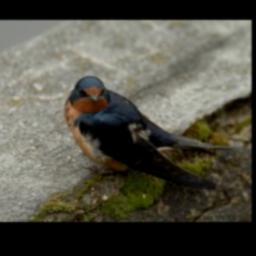Swallow: (63, 73, 252, 189)
